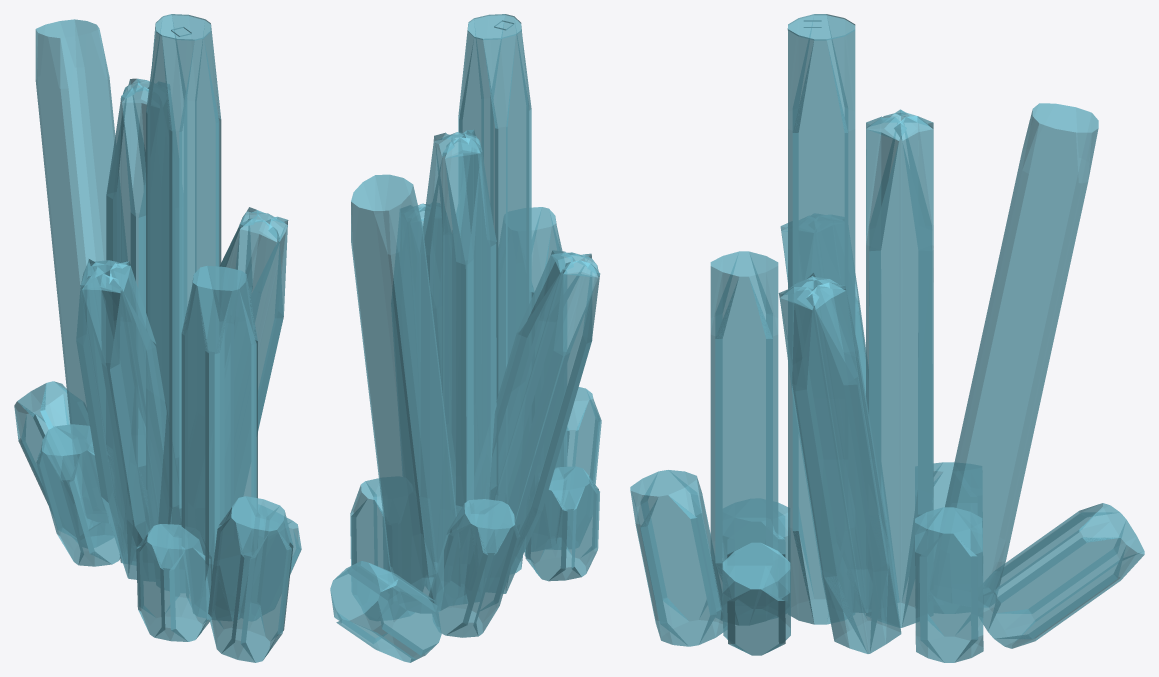
Rendered from IceWall.fbx.
3 views of the same model, side by side, from view 1: azimuth 30°, elevation 25°; view 2: azimuth 150°, elevation 25°; view 3: azimuth 270°, elevation 25° (orthographic). The views are drawn at different scales.
Parts seen in each view (by area): view 1: Cube.001, Cube.004, Cube.012, Cube.003, Cube.005, Cube.002, Cube.008, Cube.007, Cube.011, Cube.006; view 2: Cube.003, Cube.002, Cube.012, Cube.001, Cube.007, Cube.006, Cube.008, Cube.004, Cube.010, Cube.005; view 3: Cube.003, Cube.002, Cube.001, Cube.011, Cube.004, Cube.006, Cube.005, Cube.010, Cube.009, Cube.012, Cube.008, Cube.007.
Part boxes in pixels (bbox=[...]): Cube.001: bbox=[146, 14, 221, 529]; Cube.004: bbox=[181, 265, 257, 620]; Cube.012: bbox=[76, 259, 180, 579]; Cube.003: bbox=[35, 19, 115, 523]; Cube.005: bbox=[208, 496, 293, 662]; Cube.002: bbox=[106, 78, 149, 563]; Cube.008: bbox=[136, 524, 211, 641]; Cube.007: bbox=[36, 424, 119, 566]; Cube.011: bbox=[180, 207, 288, 524]; Cube.006: bbox=[14, 381, 100, 530]; Cube.003: bbox=[351, 174, 460, 613]; Cube.002: bbox=[423, 129, 497, 598]; Cube.012: bbox=[474, 250, 600, 593]; Cube.001: bbox=[458, 14, 531, 573]; Cube.007: bbox=[429, 499, 520, 637]; Cube.006: bbox=[330, 561, 441, 662]; Cube.008: bbox=[524, 466, 599, 581]; Cube.004: bbox=[531, 207, 567, 551]; Cube.010: bbox=[350, 478, 411, 583]; Cube.005: bbox=[567, 387, 601, 484]; Cube.003: bbox=[945, 103, 1098, 607]; Cube.002: bbox=[866, 109, 933, 627]; Cube.001: bbox=[787, 14, 855, 624]; Cube.011: bbox=[778, 273, 901, 653]; Cube.004: bbox=[710, 251, 778, 625]; Cube.006: bbox=[983, 503, 1144, 648]; Cube.005: bbox=[630, 470, 723, 646]; Cube.010: bbox=[915, 507, 983, 662]; Cube.009: bbox=[722, 542, 790, 655]; Cube.012: bbox=[780, 223, 899, 612]; Cube.008: bbox=[723, 502, 787, 560]; Cube.007: bbox=[933, 462, 977, 515].
Bounding box in the file's own units: 223 × 605 × 454.
